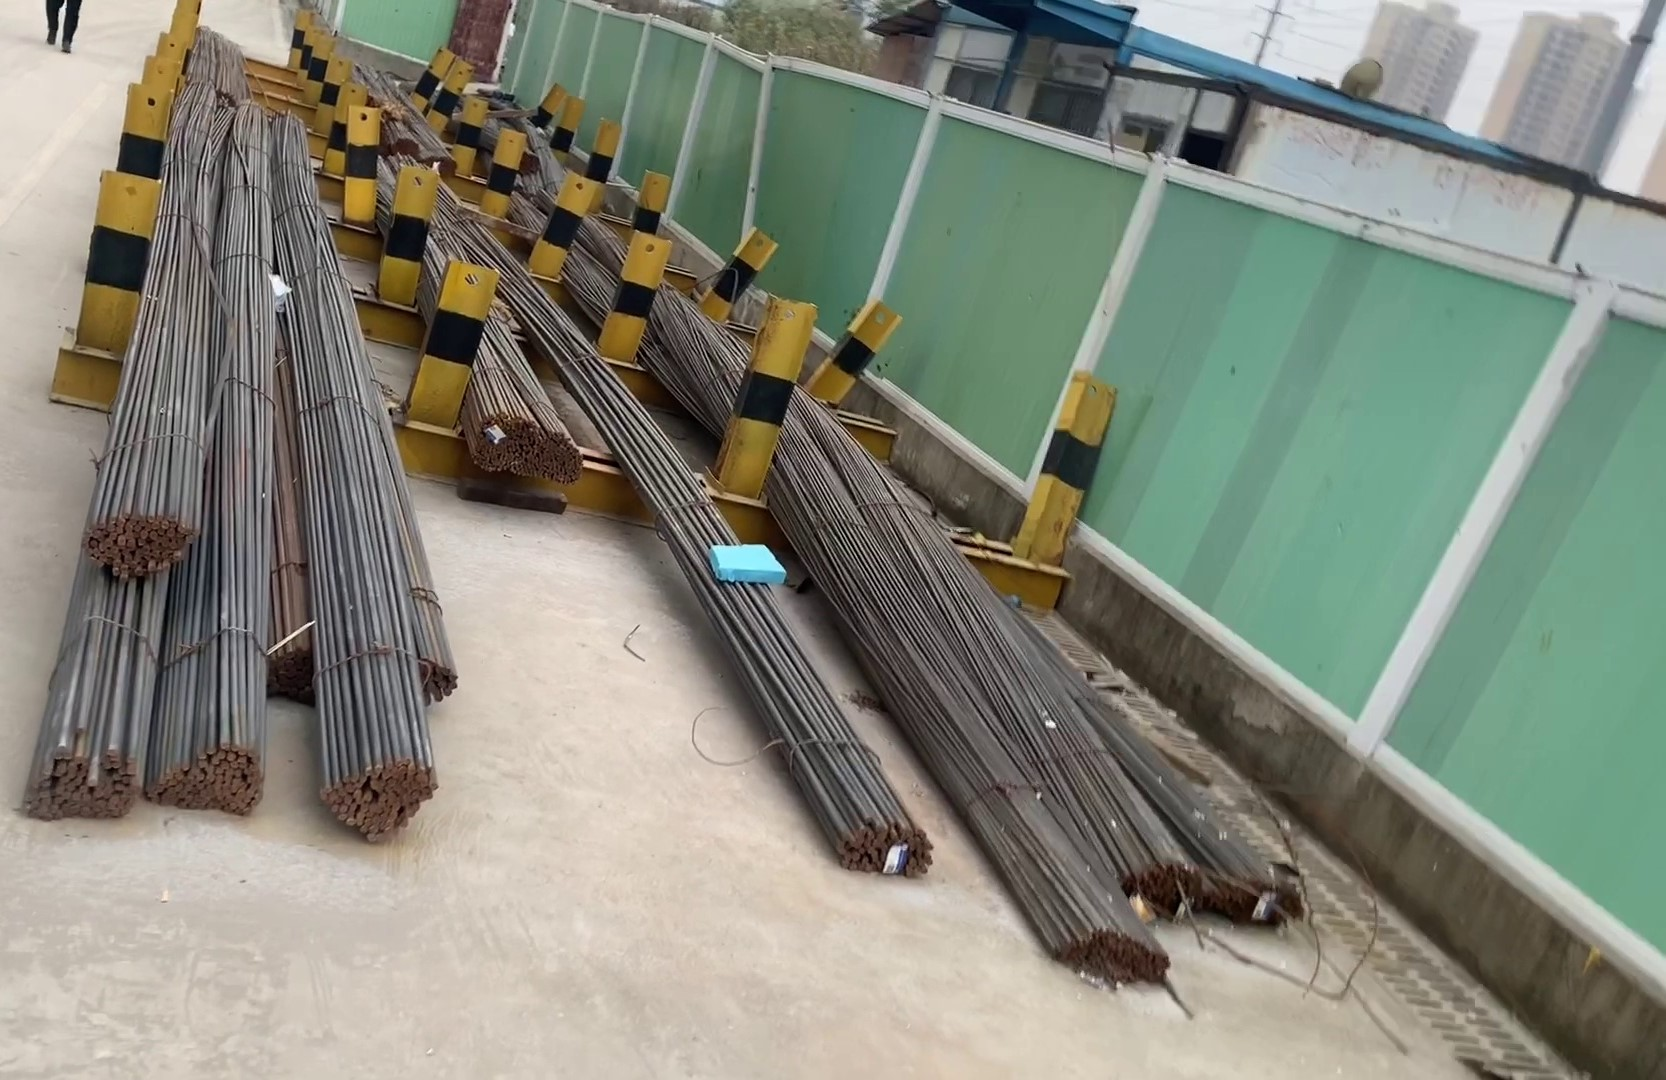rebar: (1122, 852, 1302, 914), (29, 733, 137, 825), (331, 752, 437, 842), (465, 406, 580, 481), (155, 741, 266, 818), (1047, 912, 1163, 984), (75, 510, 197, 578), (837, 809, 931, 886)
